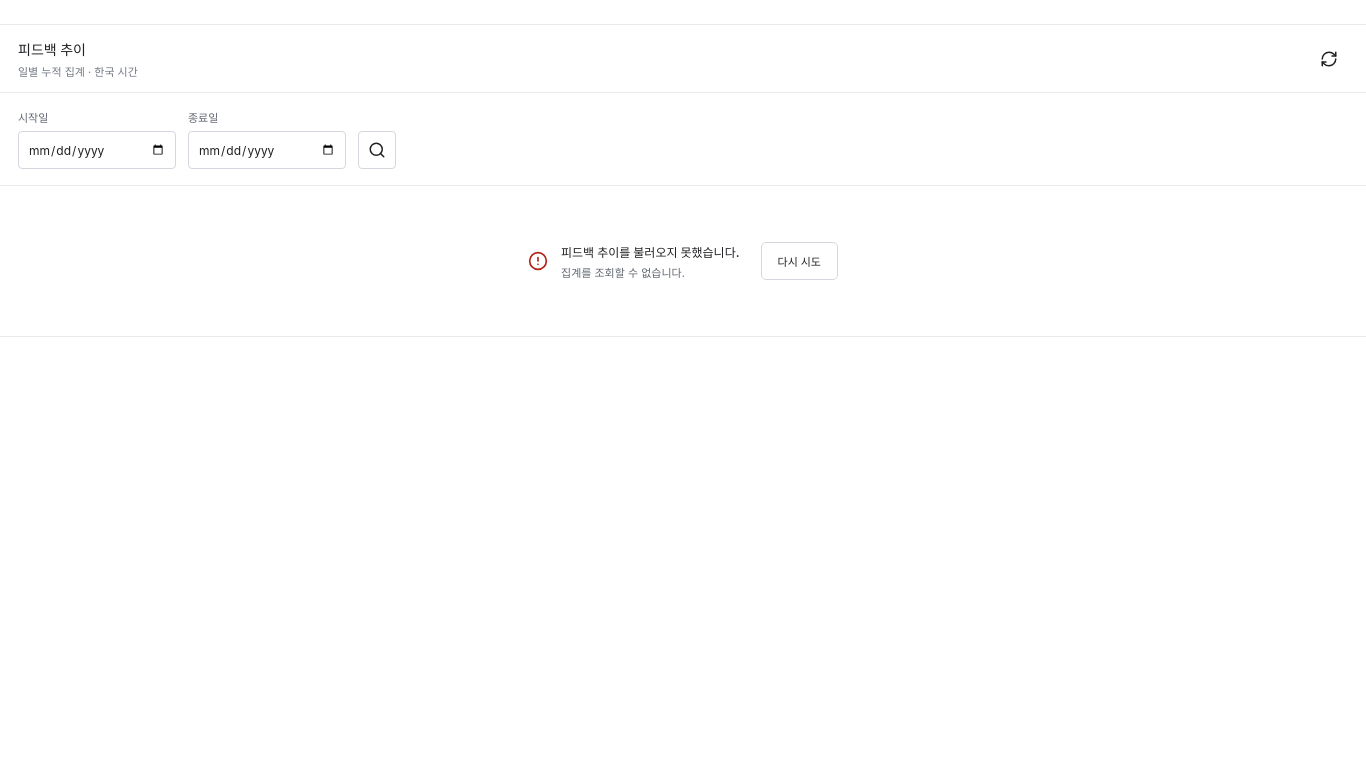
Test: IssueTrendSection › retries a failed request
Check: the message shows "집계를 조회할 수 없습니다.", box [561,266,685,280]
Click the button "다시 시도": [799, 261] box [760,242,838,280]
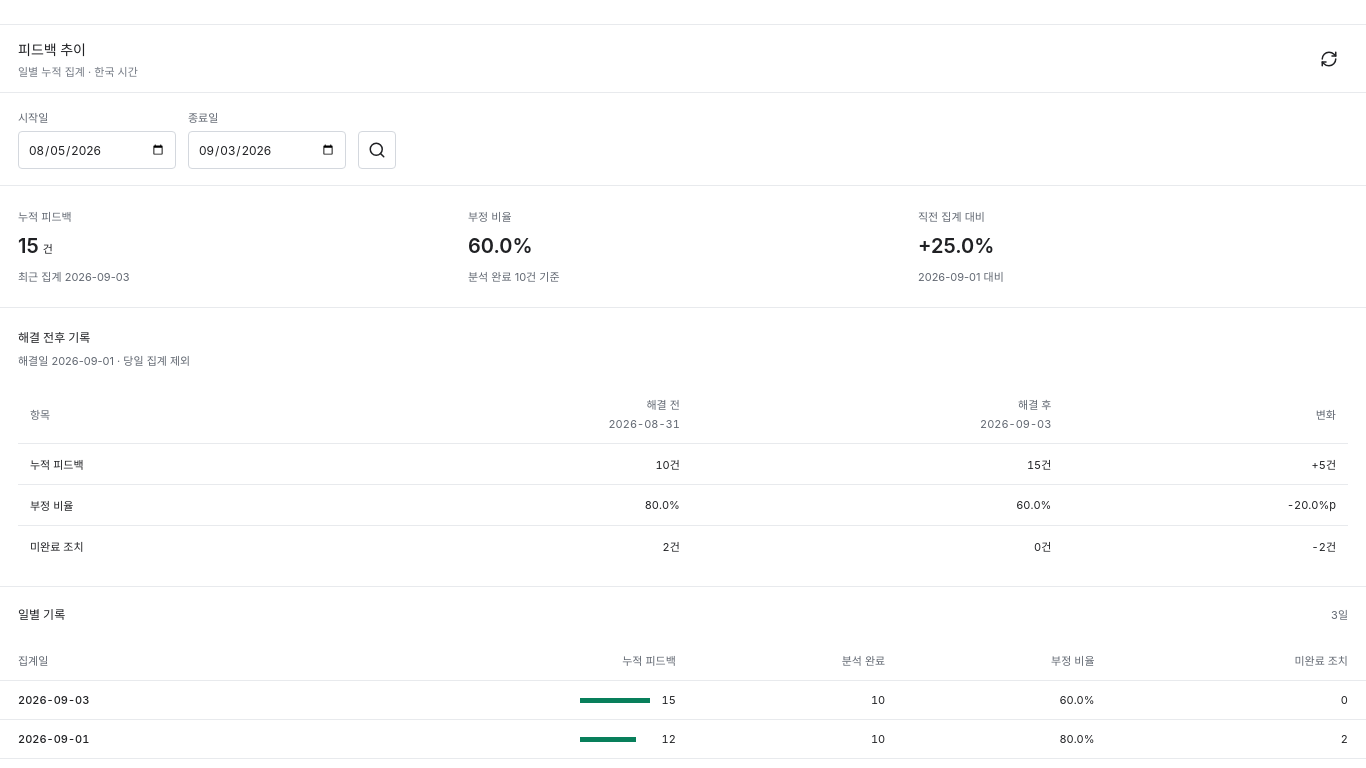
Check: the text "+25.0%" is shown, box [918,234,994,258]
